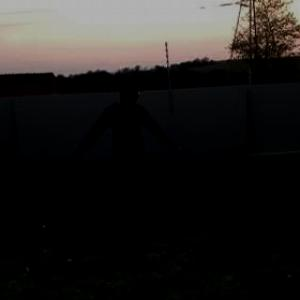land: (59, 75, 186, 255)
